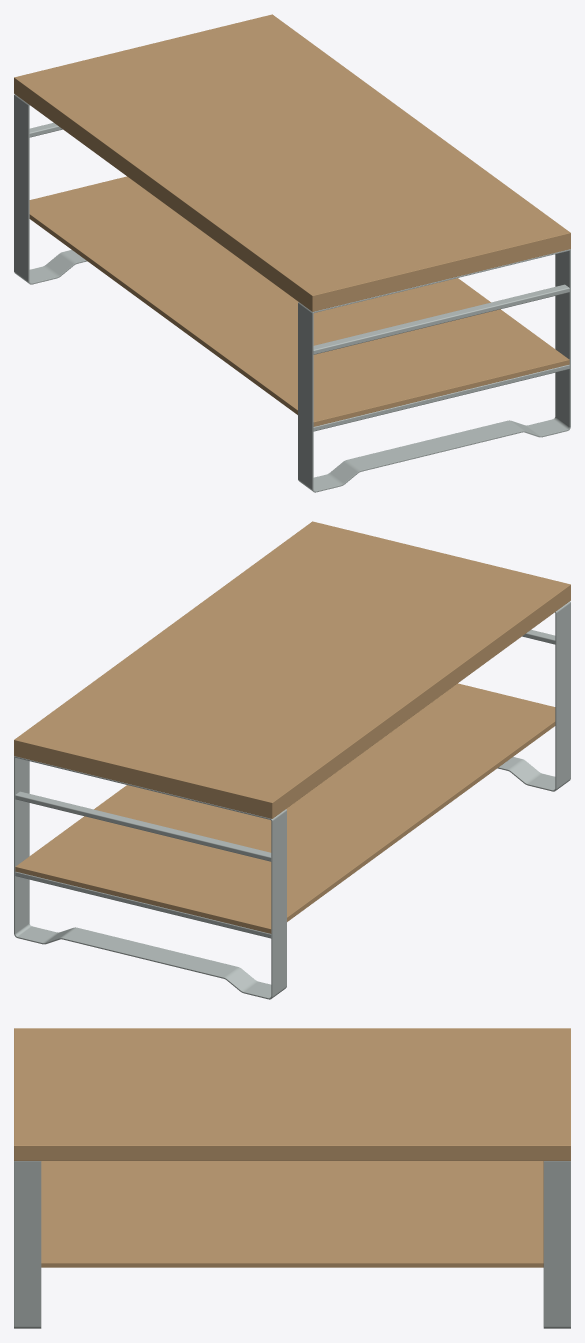
The model's file is furniture_table_coffee_low_a01.glb.
3 views of the same model, one above another, from view 1: azimuth 30°, elevation 25°; view 2: azimuth 150°, elevation 25°; view 3: azimuth 270°, elevation 25° (orthographic). The views are drawn at different scales.
Size of the model in its own units: 0.6 by 0.4427 by 1.2.
